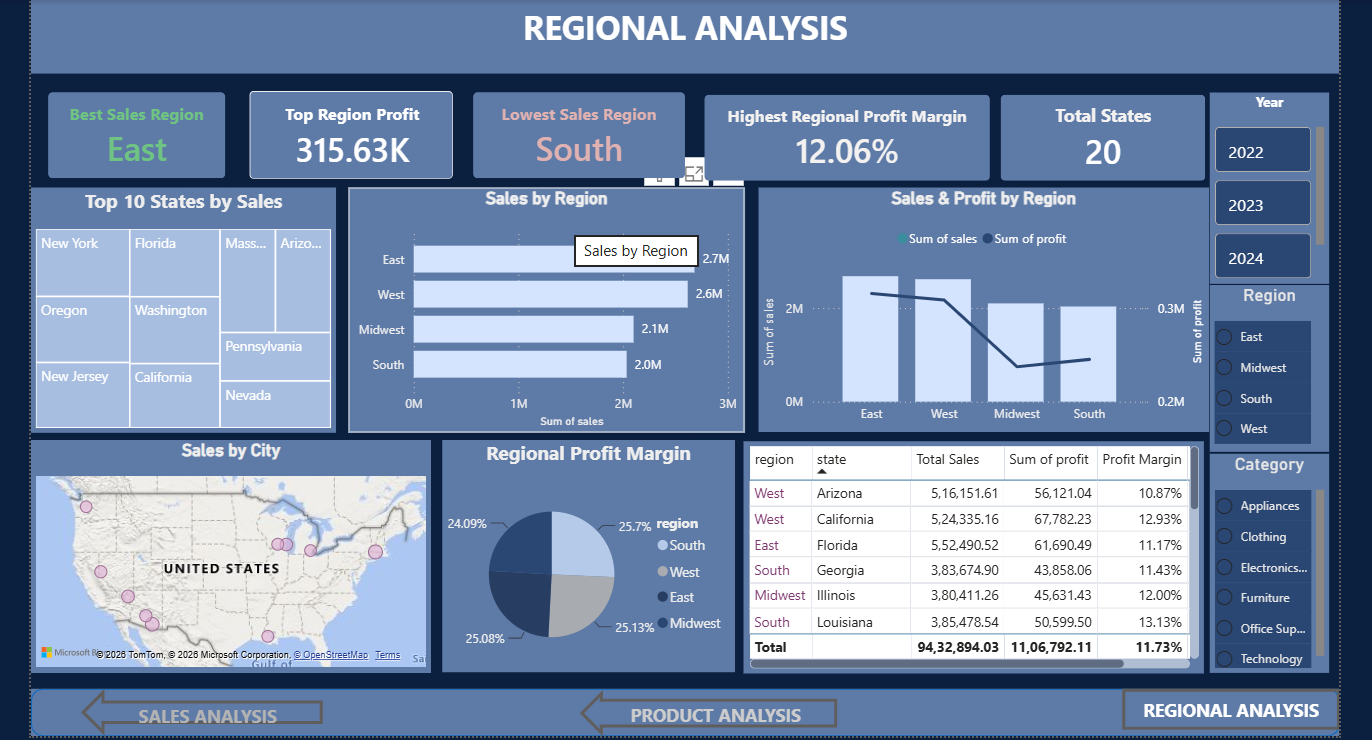

The page's visual inventory and layout, read from the dashboard file:
{"tool":"powerbi","page":{"name":"REGIONAL ANALYSIS","canvas":[1280,720],"ordinal":2},"visuals":[{"type":"shape","box":[0,673.8,1280.3,46.5],"z":0},{"type":"barChart","title":"Sales by Region","fields":{"Category":["sales_dataset.region"],"Y":["Sum(sales_dataset.sales)"]},"box":[310.6,183.4,387.6,239.7],"z":1000},{"type":"lineClusteredColumnComboChart","title":"Sales & Profit by Region","fields":{"Category":["sales_dataset.region"],"Y":["Sum(sales_dataset.sales)"],"Y2":["Sum(sales_dataset.profit)"]},"box":[711.1,184,440.7,239.5],"z":2000},{"type":"map","title":"Sales by City","fields":{"Category":["sales_dataset.city"],"Size":["Sum(sales_dataset.sales)"]},"box":[0,430.9,391.4,227.2],"z":3000},{"type":"pieChart","title":"Regional Profit Margin","fields":{"Category":["sales_dataset.region"],"Y":["sales_dataset.Profit Margin"]},"box":[402.5,430.9,286.4,227.2],"z":4000},{"type":"textbox","box":[0,0,1280.2,71.6],"z":5000},{"type":"treemap","title":"Top 10 States by Sales","fields":{"Values":["sales_dataset.Total Sales"],"Group":["sales_dataset.state"]},"box":[0,183.3,298.3,240],"z":6000},{"type":"cardVisual","fields":{"Data":["sales_dataset.lowest sales region"]},"box":[416,72.8,242,118.5],"z":7000},{"type":"cardVisual","fields":{"Data":["sales_dataset.best sales region"]},"box":[0,72.8,207.4,118.5],"z":8000},{"type":"cardVisual","fields":{"Data":["sales_dataset.Total State"]},"box":[932.1,75.3,234.6,118.5],"z":9000},{"type":"cardVisual","fields":{"Data":["sales_dataset.Regional Profit Margin","sales_dataset.Regional Profit Margin"]},"box":[642,75.3,313.6,118.5],"z":10000},{"type":"tableEx","fields":{"Values":["sales_dataset.region","sales_dataset.state","sales_dataset.TotalSales","Sum(sales_dataset.profit)","sales_dataset.Profit Margin","sales_dataset.count of oders"]},"box":[697.5,432.1,450.6,227.2],"z":11000},{"type":"actionButton","box":[1067.5,674,213,40.3],"z":12000},{"type":"actionButton","box":[537.3,674.7,252,45.3],"z":13000},{"type":"actionButton","box":[48.7,673.4,236.5,45.9],"z":14000},{"type":"listSlicer","title":"Region","fields":{"Values":["sales_dataset.region"]},"box":[1152.9,278.6,117.1,162.9],"z":15000},{"type":"advancedSlicerVisual","fields":{"Values":["sales_dataset.order_date.Variation.Date Hierarchy.Year"]},"box":[1152.9,90,117.1,187.1],"z":16000},{"type":"listSlicer","title":"Category","fields":{"Values":["sales_dataset.category"]},"box":[1152.9,444.3,117.1,214.3],"z":17000},{"type":"cardVisual","fields":{"Data":["sales_dataset.Top Region Profit"]},"box":[196.3,71.6,233.3,121],"z":18000}]}

Visuals, with their boxes in screenshot pixels (x1, y1, x2, y2):
shape: BBox(29, 683, 1326, 730)
"Sales by Region" barChart: BBox(343, 186, 736, 429)
"Sales & Profit by Region" lineClusteredColumnComboChart: BBox(749, 186, 1195, 429)
"Sales by City" map: BBox(29, 437, 425, 667)
"Regional Profit Margin" pieChart: BBox(436, 437, 726, 667)
textbox: BBox(29, 0, 1325, 73)
"Top 10 States by Sales" treemap: BBox(29, 186, 331, 429)
cardVisual - sales_dataset.lowest sales region: BBox(450, 74, 695, 194)
cardVisual - sales_dataset.best sales region: BBox(29, 74, 239, 194)
cardVisual - sales_dataset.Total State: BBox(973, 76, 1210, 196)
cardVisual - sales_dataset.Regional Profit Margin x sales_dataset.Regional Profit Margin: BBox(679, 76, 997, 196)
tableEx - sales_dataset.region x sales_dataset.state: BBox(735, 438, 1192, 668)
actionButton: BBox(1110, 683, 1326, 724)
actionButton: BBox(573, 683, 828, 729)
actionButton: BBox(78, 682, 317, 729)
"Region" listSlicer: BBox(1196, 282, 1315, 447)
advancedSlicerVisual - sales_dataset.order_date.Variation.Date Hierarchy.Year: BBox(1196, 91, 1315, 281)
"Category" listSlicer: BBox(1196, 450, 1315, 667)
cardVisual - sales_dataset.Top Region Profit: BBox(227, 73, 464, 195)
